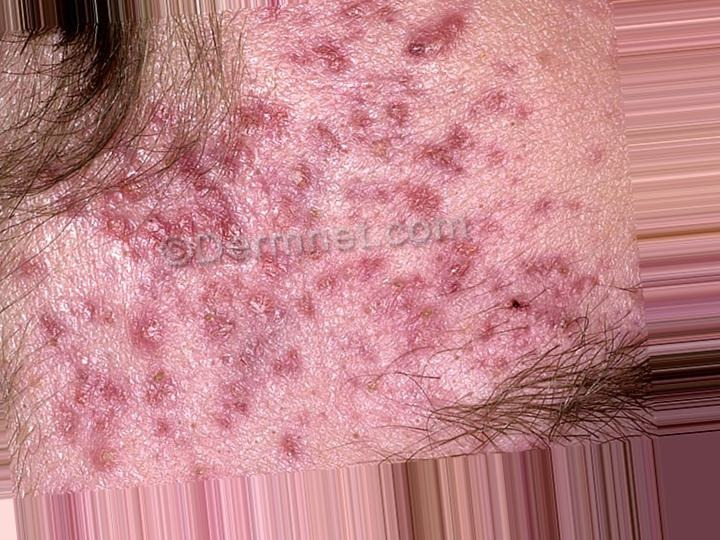Acne: (15, 15, 629, 468)
